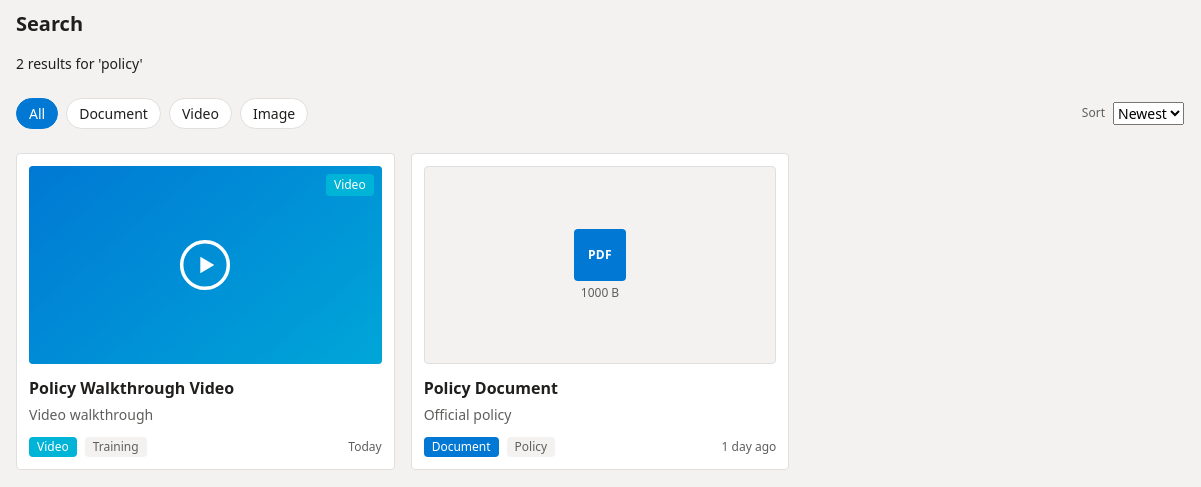
Scenario: SearchPage › type filter chips filter by type
Expected: the heading "Policy Document" is shown, [424,377,558,399]
Click the button "Document" at (114, 114), box [66,98,161,129]
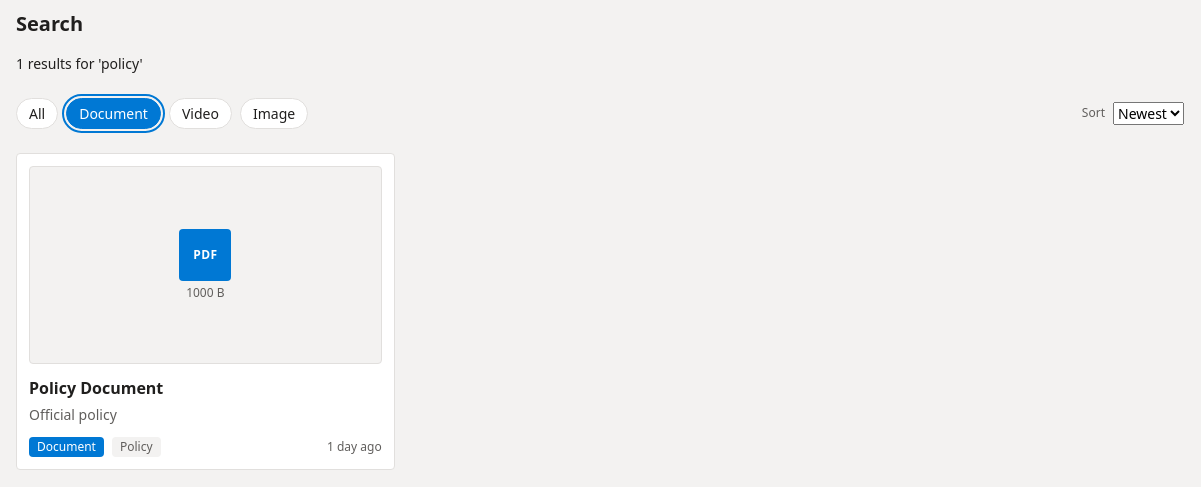
Expected: the heading "Policy Document" is shown, [29,377,163,399]
Expected: the link "Policy Walkthrough Video" is gone
